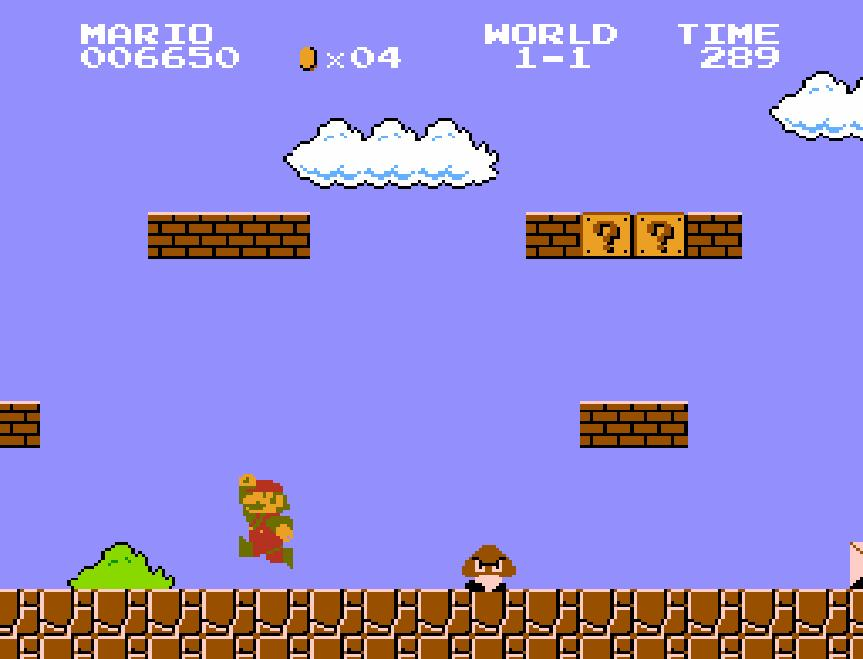big_mario: (236, 472, 294, 570)
